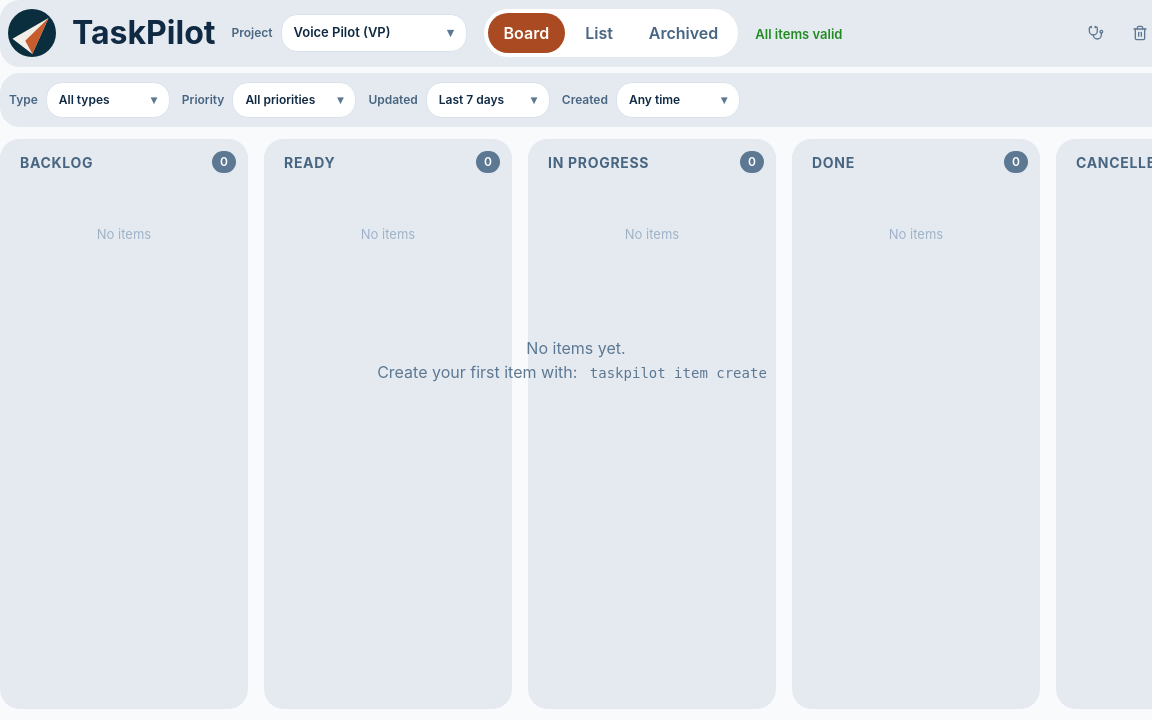
Test: App › header project actions › opens the Doctor dialog for the selected project
Click the button named "Doctor": (1096, 33) 1082,19 -> 1110,47
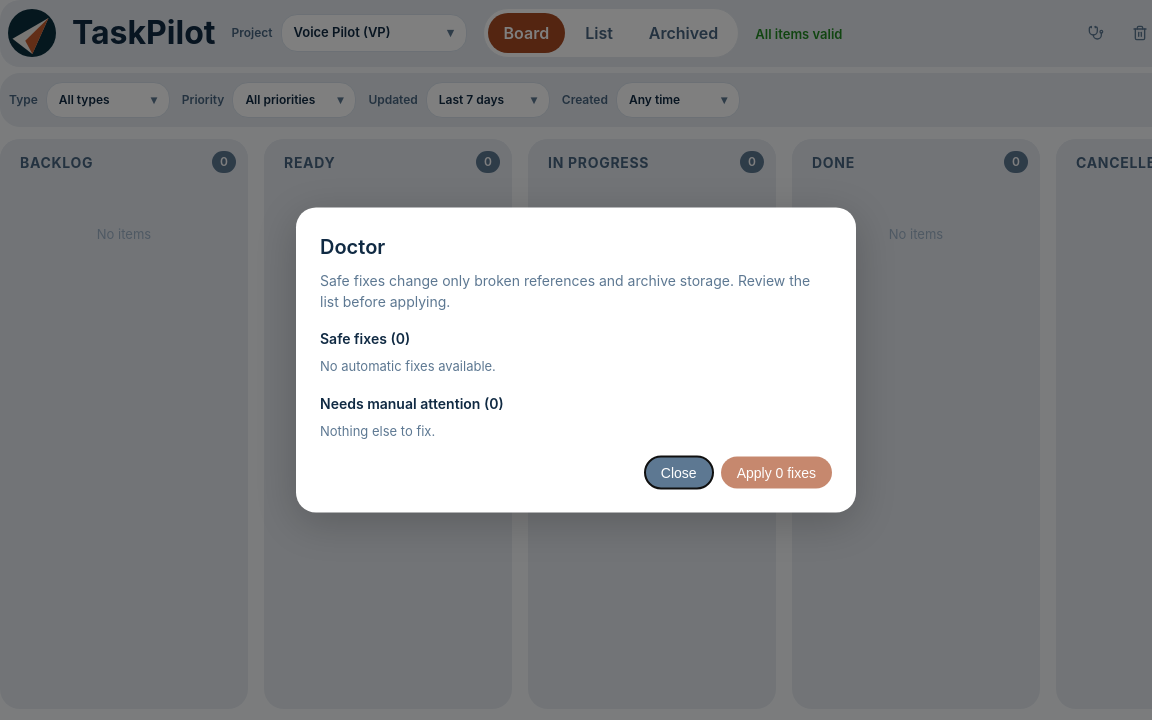
Expected: the dialog "Doctor" is shown, 296,208 -> 856,512
